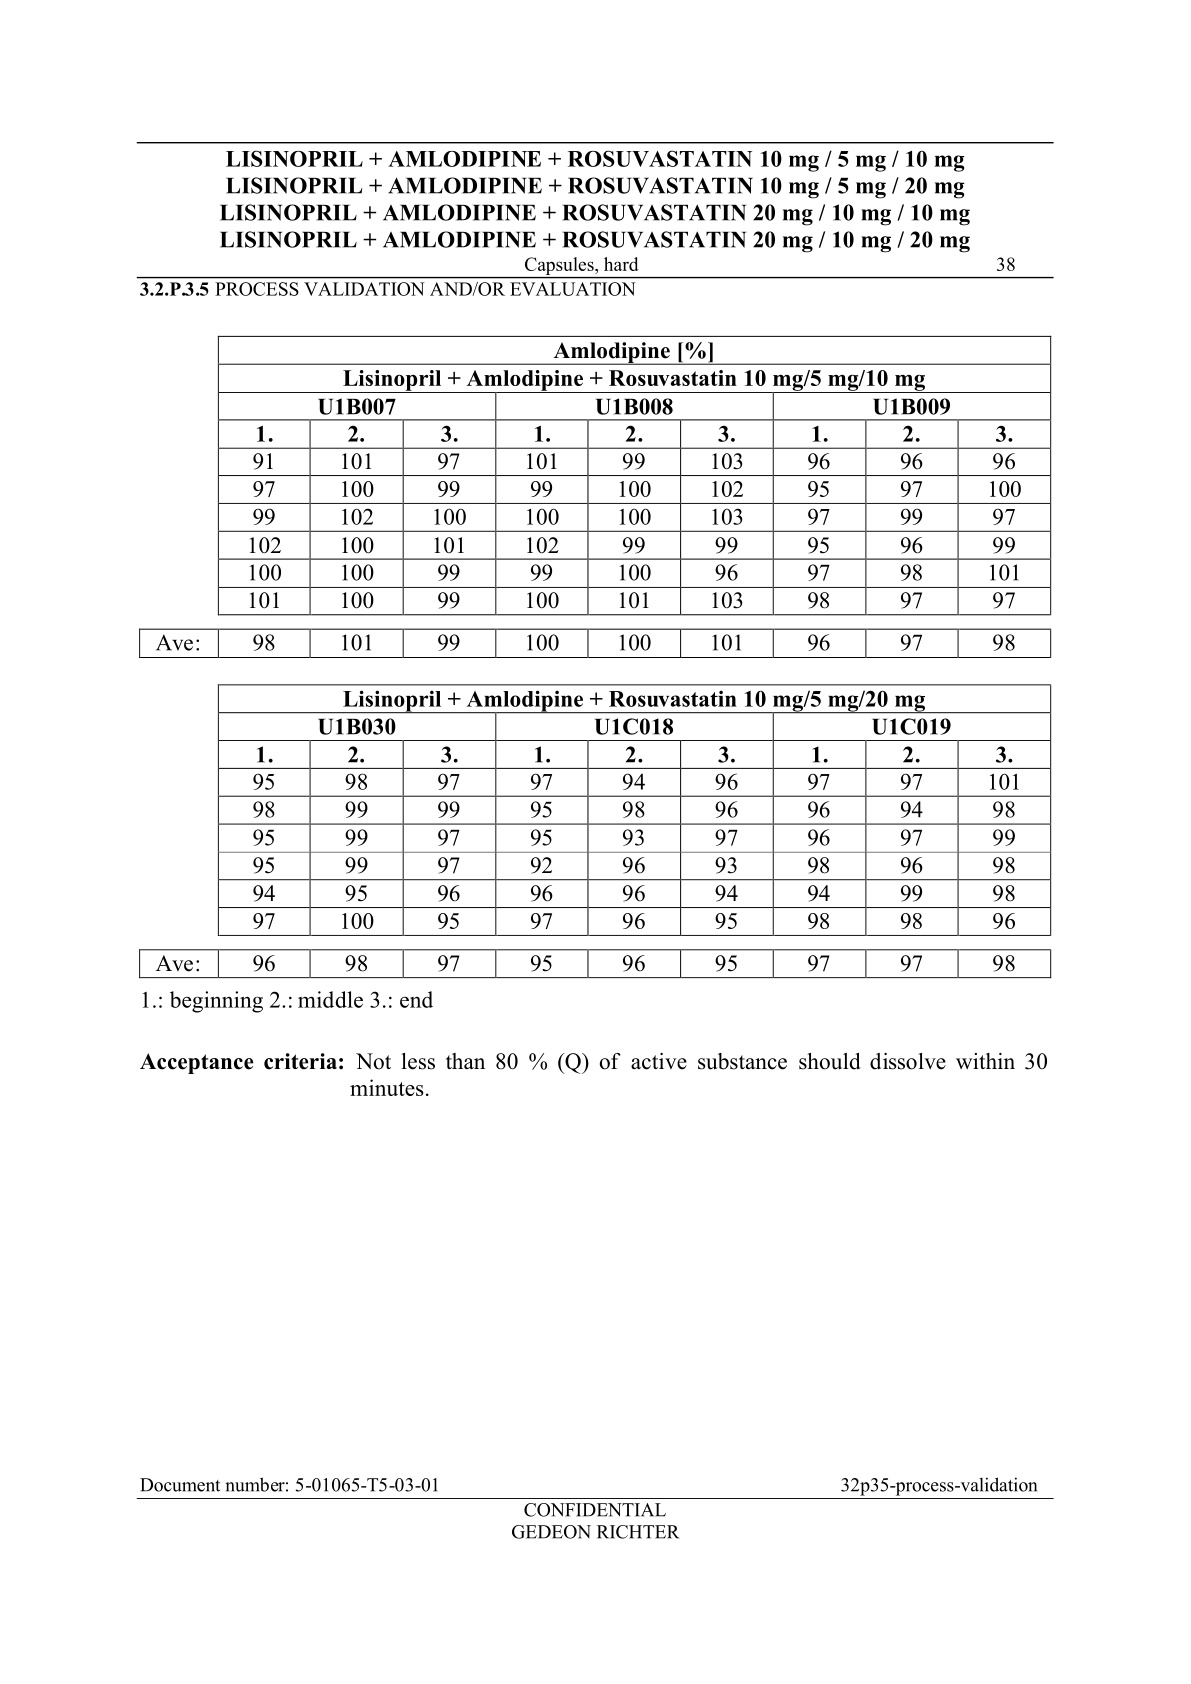full_lined: (138, 627, 1052, 658), (138, 948, 1052, 979)
merged_cells: (217, 334, 1052, 617), (217, 683, 1051, 937)
